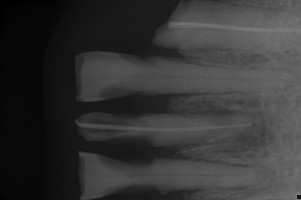Furcation Involvement: (210, 113, 274, 155)
